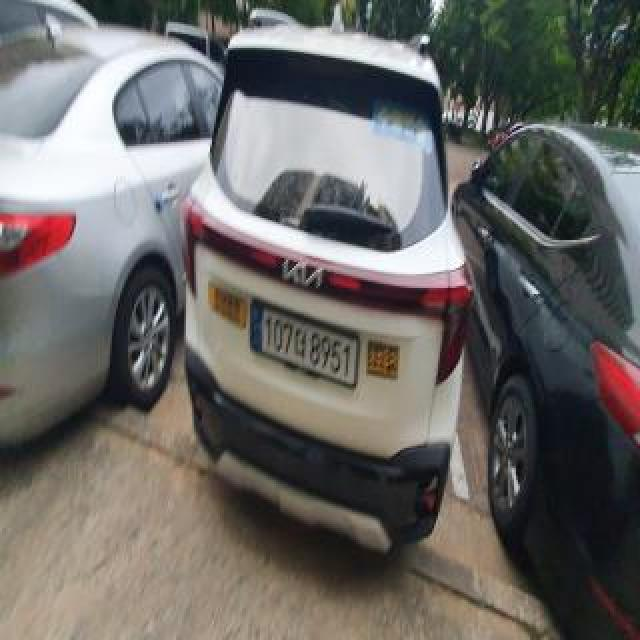car: (177, 21, 470, 556)
illegal_plate: (252, 300, 360, 395)
